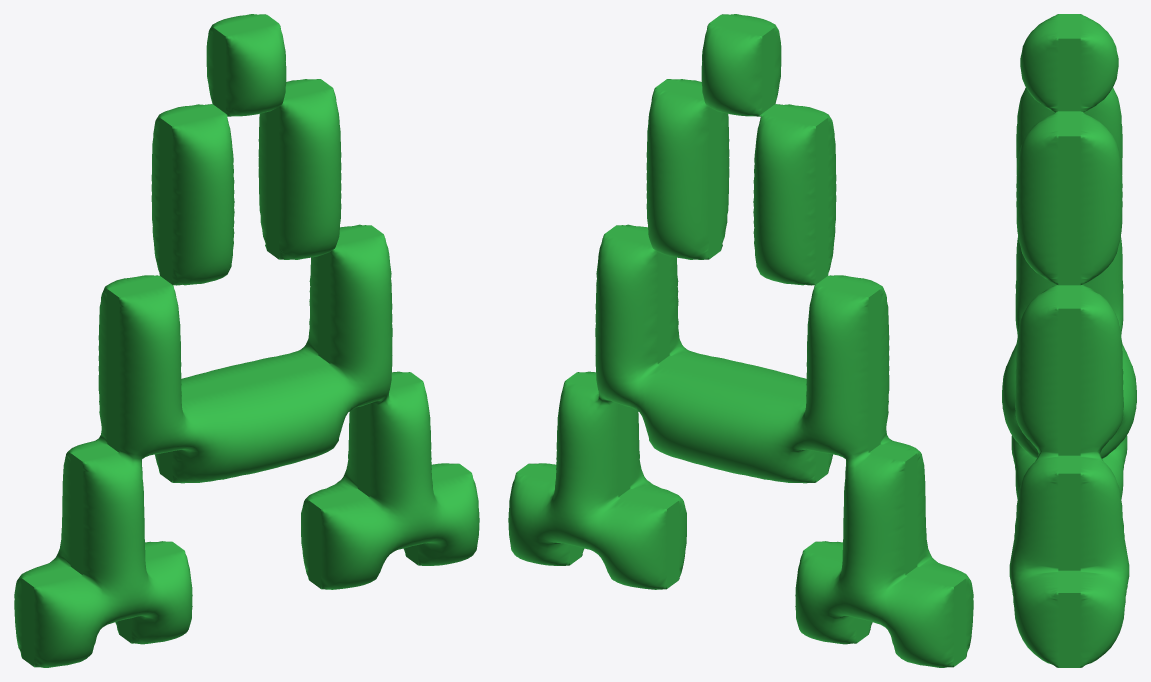
3 renders of one model, left to right at view 1: azimuth 30°, elevation 25°; view 2: azimuth 150°, elevation 25°; view 3: azimuth 270°, elevation 25°, orthographic. The views are drawn at different scales.
Visible parts, largest first — view 1: Mesh_0.002; view 2: Mesh_0.002; view 3: Mesh_0.002.
Boxes of the visible parts, x1,y1,x2,y2 form: Mesh_0.002: [14, 14, 479, 667]; Mesh_0.002: [508, 14, 973, 667]; Mesh_0.002: [1002, 14, 1136, 667].
Size of the model in its own units: 0.0745 by 0.095 by 0.0212.
